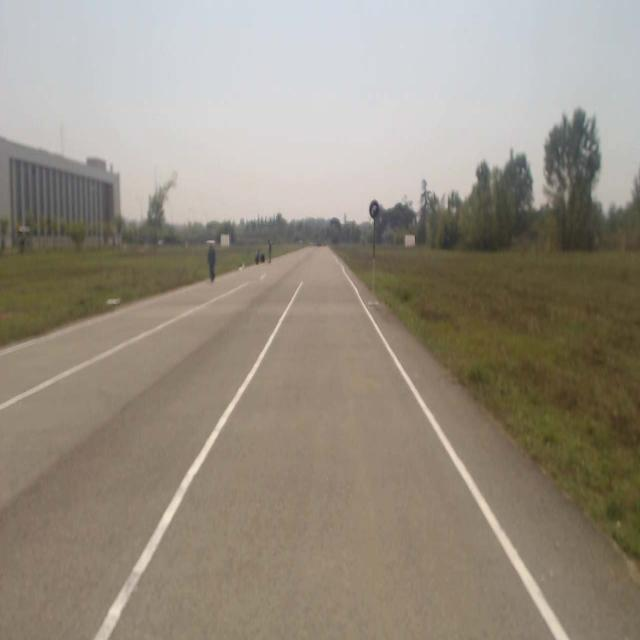sol: (369, 198, 378, 219)
